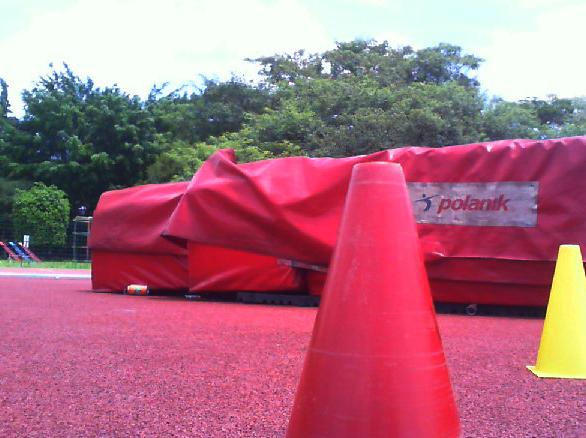0 cone: (285, 161, 468, 438), (526, 245, 586, 380)
